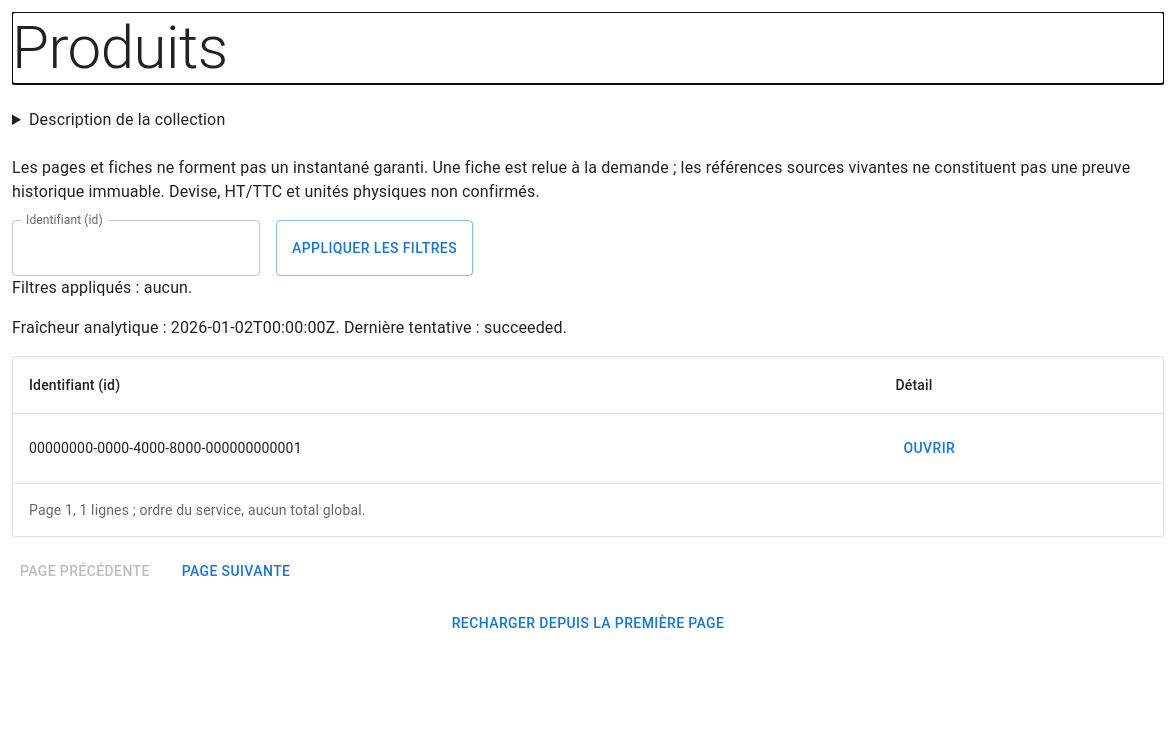
Test: offers a fresh first page when a later cursor is rejected
Click the button "Page suivante".
click(236, 571)  # box [174, 552, 298, 589]
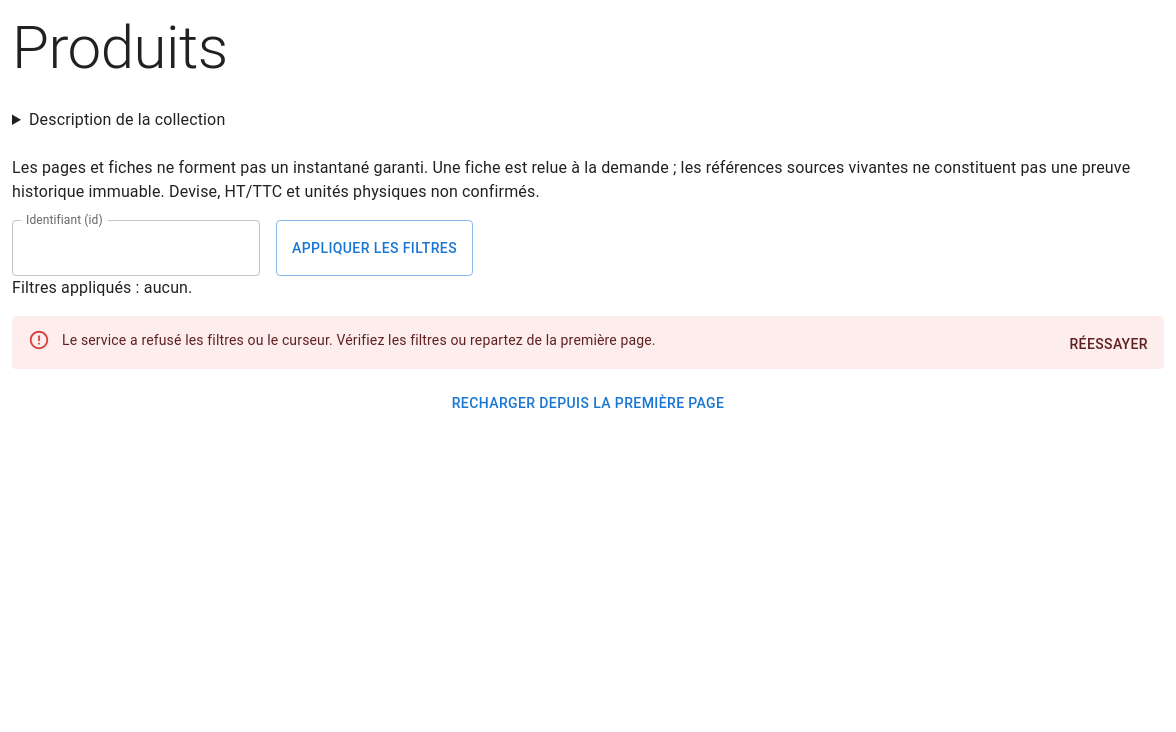
Check: the message is shown, box [12, 316, 1164, 368]
Click the button "Recharger depuis la première page".
click(588, 403)  # box [12, 384, 1164, 421]
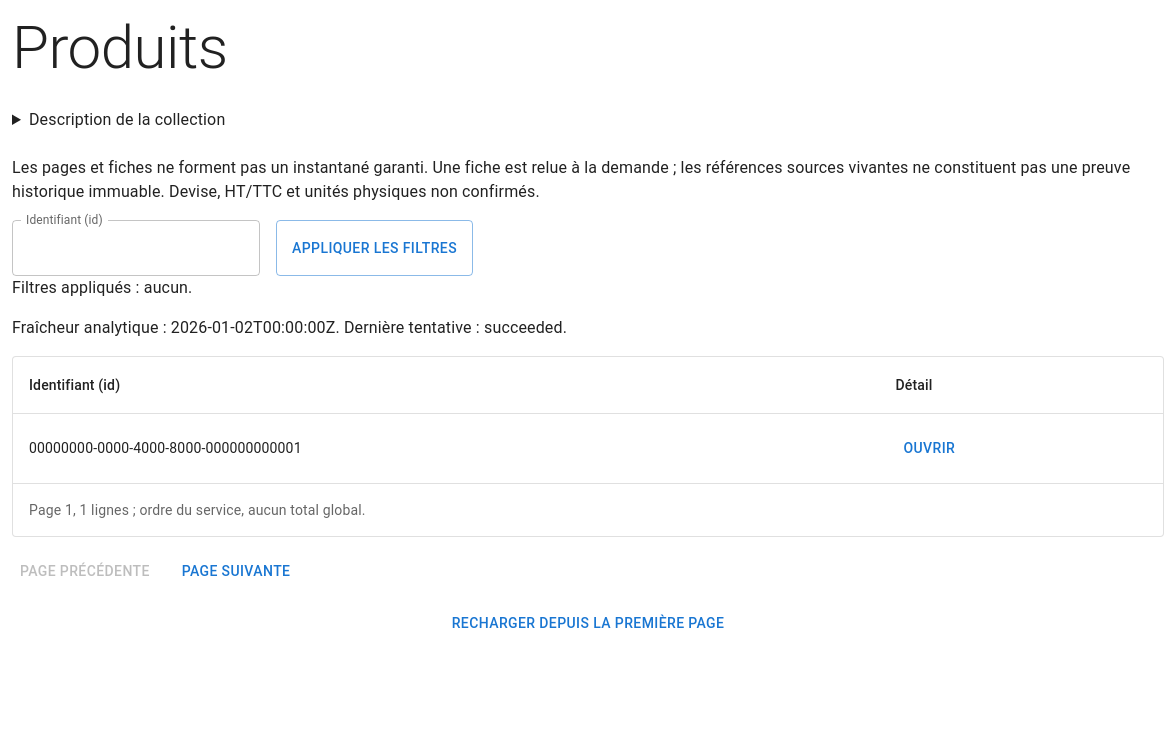
Check: the button with aria-label "Ouvrir la ligne 1" is shown, box [895, 430, 963, 466]
